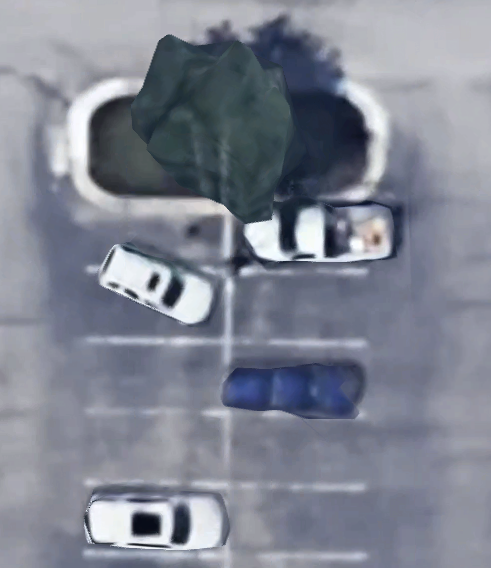Occupied: (85, 483, 231, 556), (85, 270, 229, 342), (230, 343, 366, 416), (84, 202, 230, 269), (230, 204, 366, 272)
Vacant: (85, 412, 229, 486), (85, 342, 229, 415), (230, 272, 366, 345), (230, 484, 366, 555), (230, 416, 364, 486)
